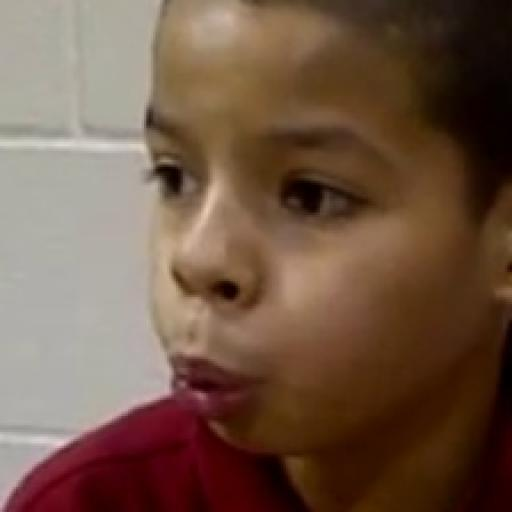Autism: (110, 27, 512, 512)
